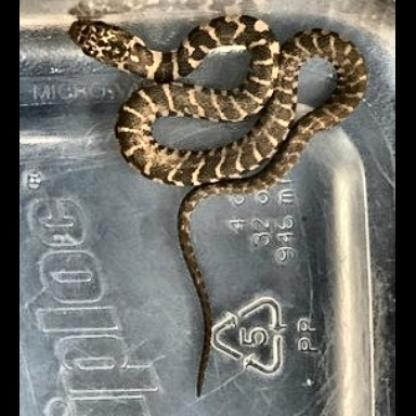Snake: (23, 10, 394, 412), (53, 4, 385, 212)
